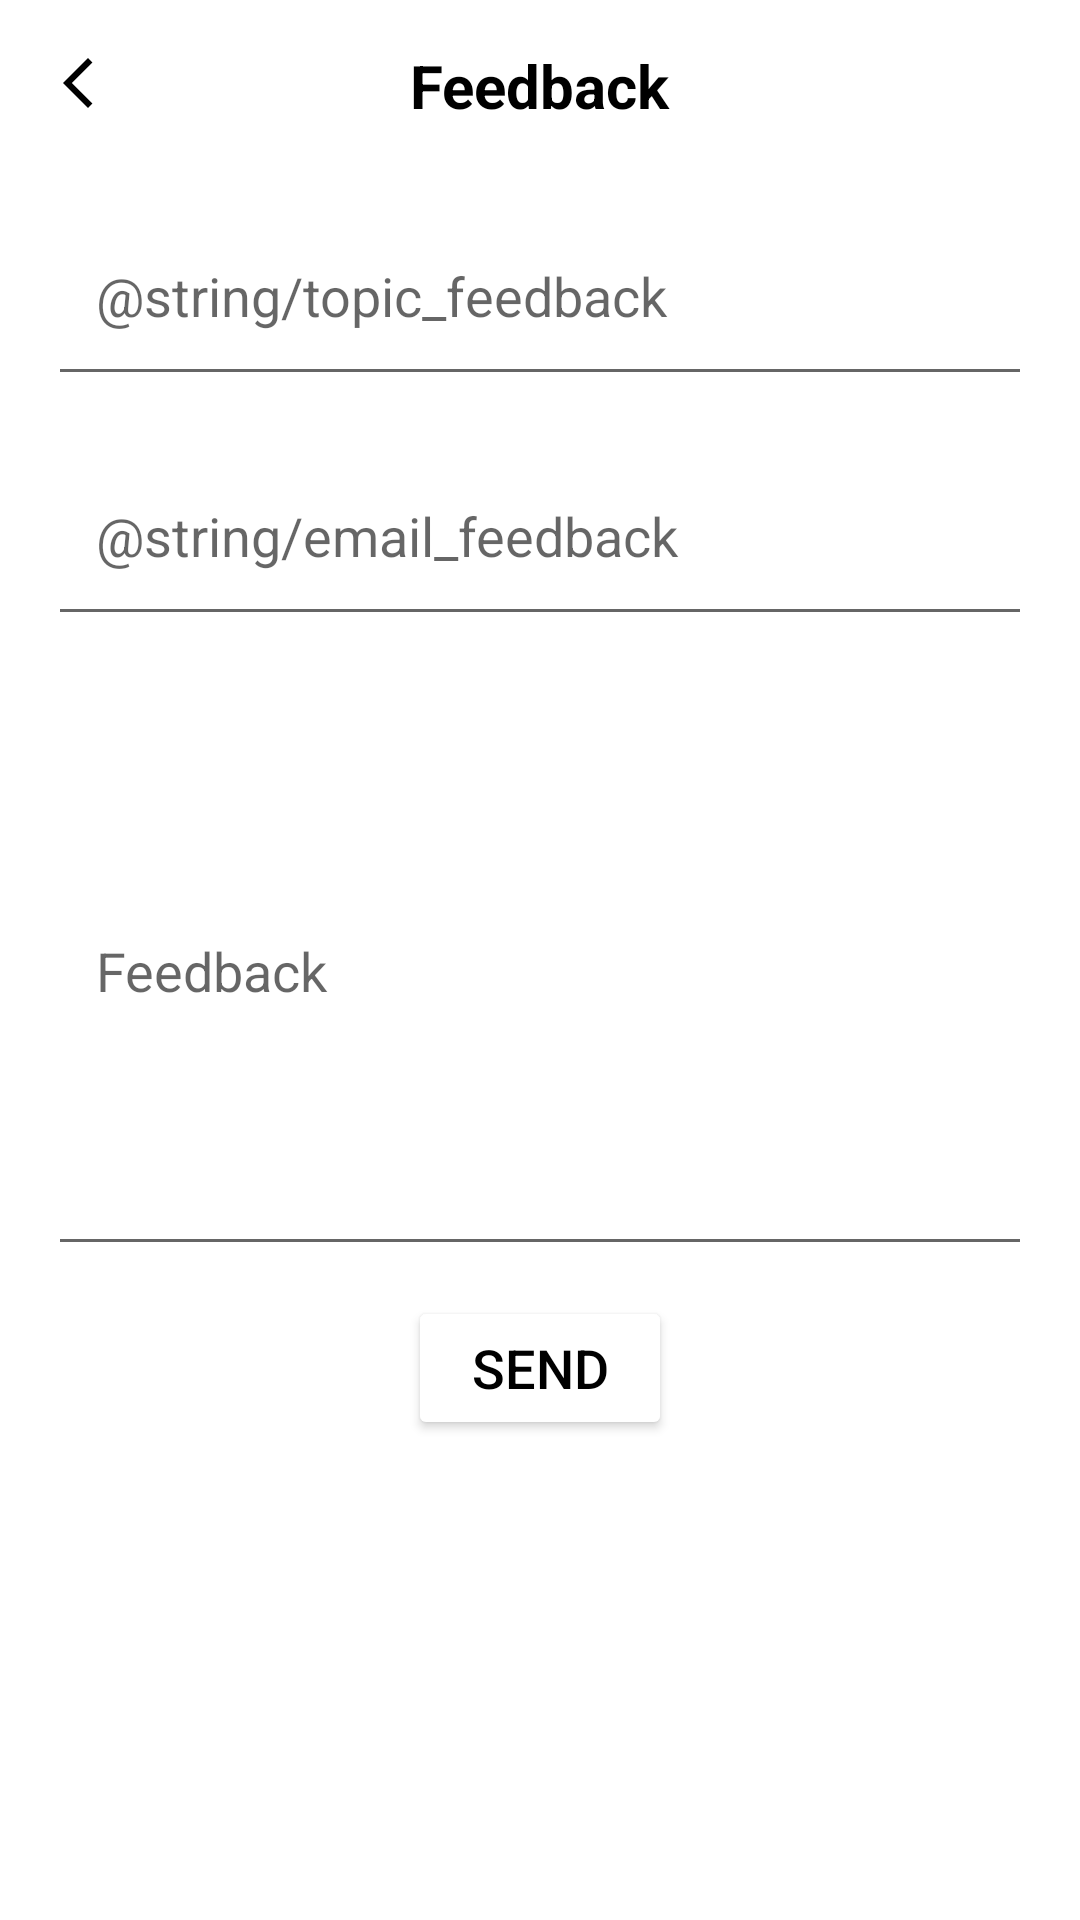

Icons on this 1080 × 1920 Android screen, each with the point to tap as (x=x, y=y):
arrow back: (x=78, y=83)
